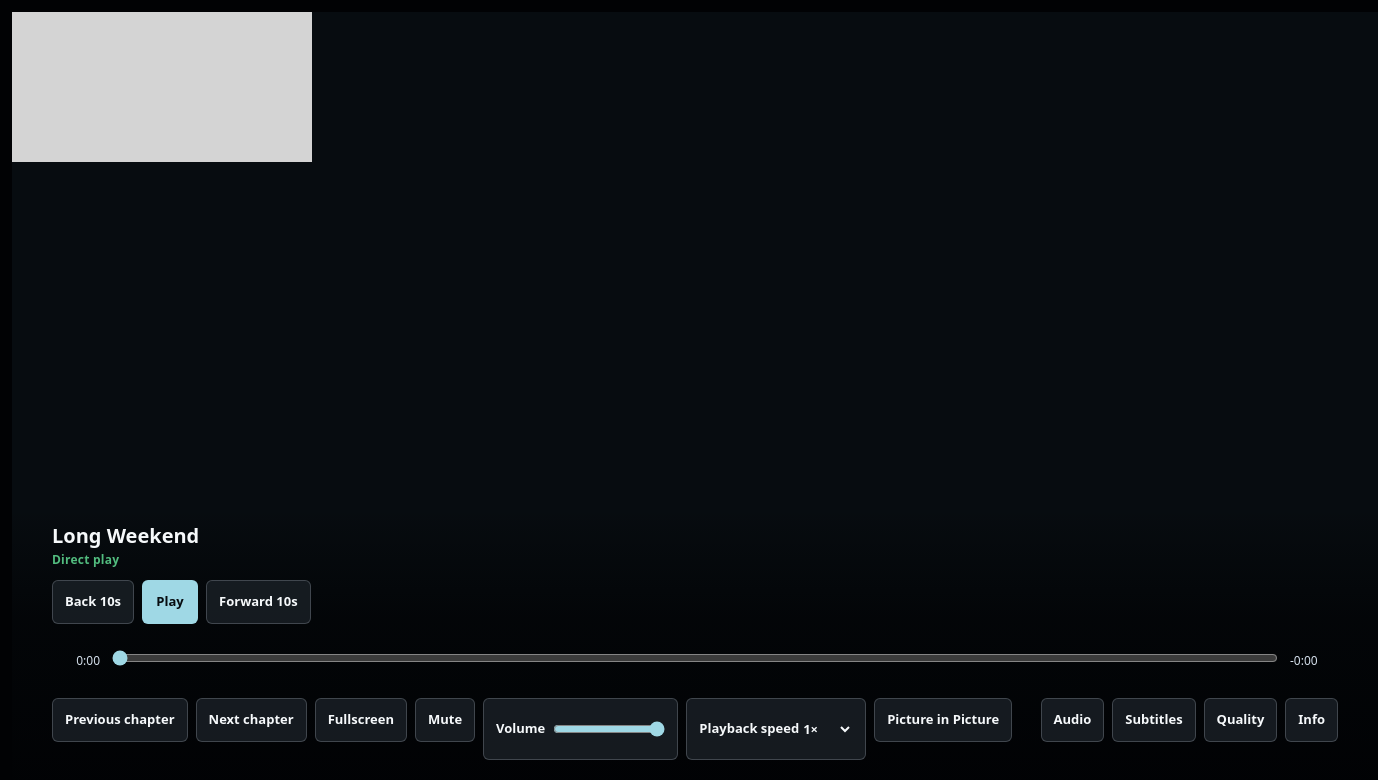
Scenario: PlayerTransport › reports Picture in Picture exit rejection without claiming it stopped
This screenshot has width=1378, height=780.
Click the button "Picture in Picture": (943, 720) [874,698,1012,742]
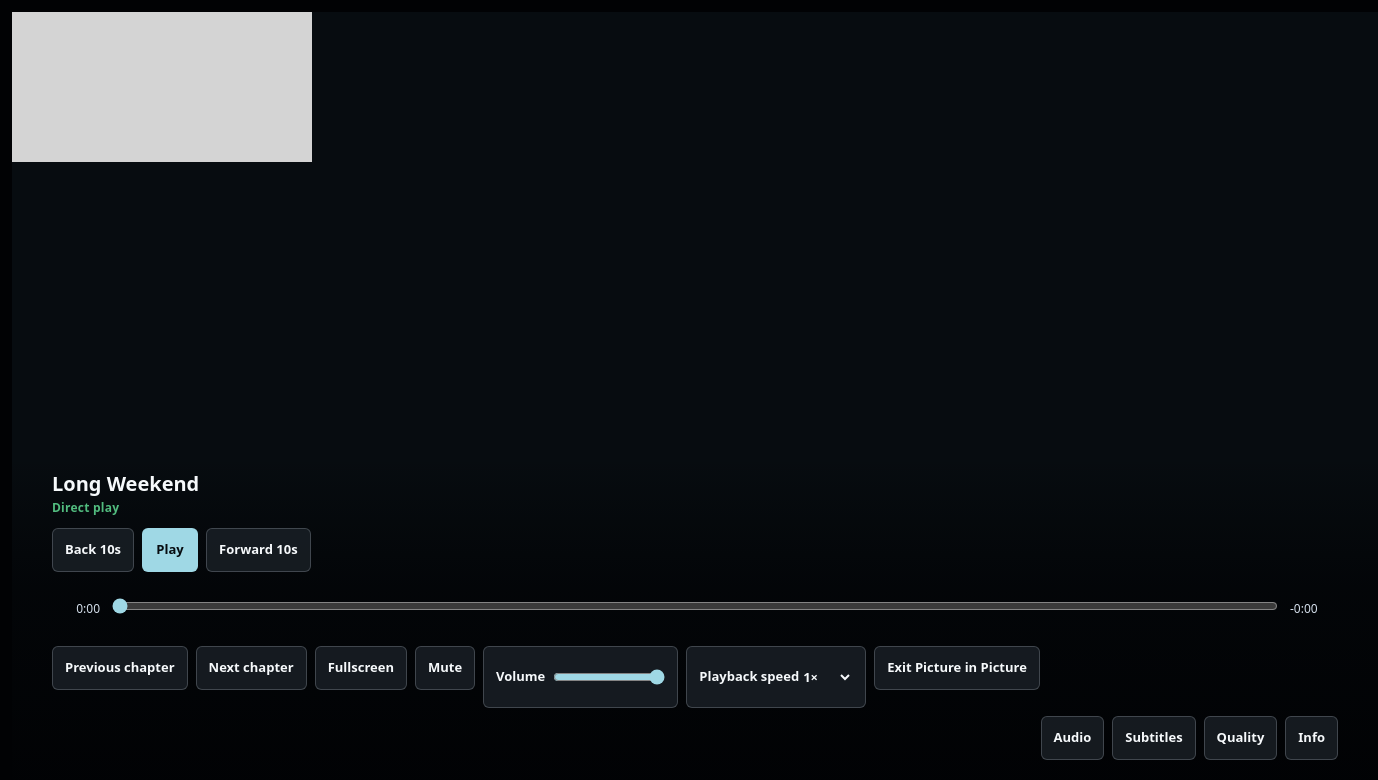
Click the button "Exit Picture in Picture": (957, 668) [874,646,1040,690]
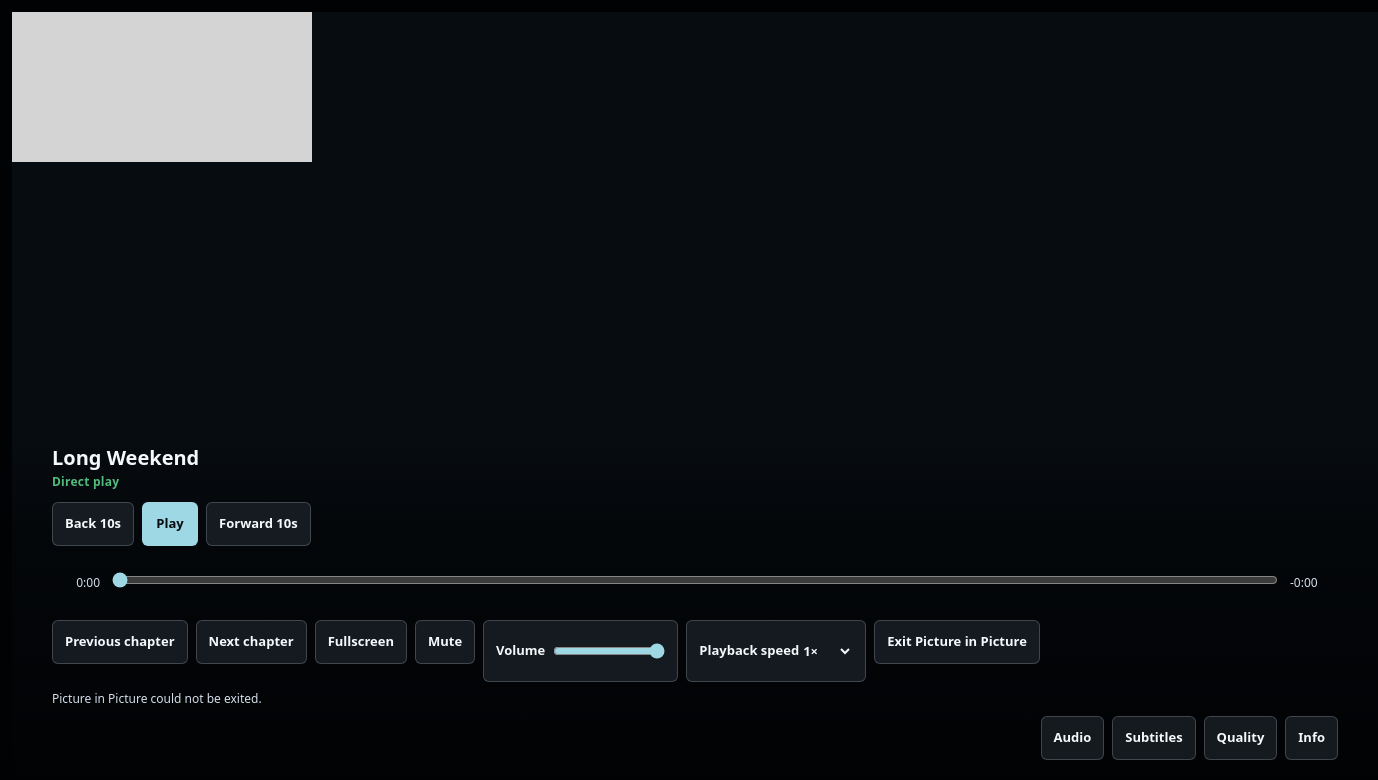
Expected: the message reads "Picture in Picture could not be exited.", [52,690,262,707]
